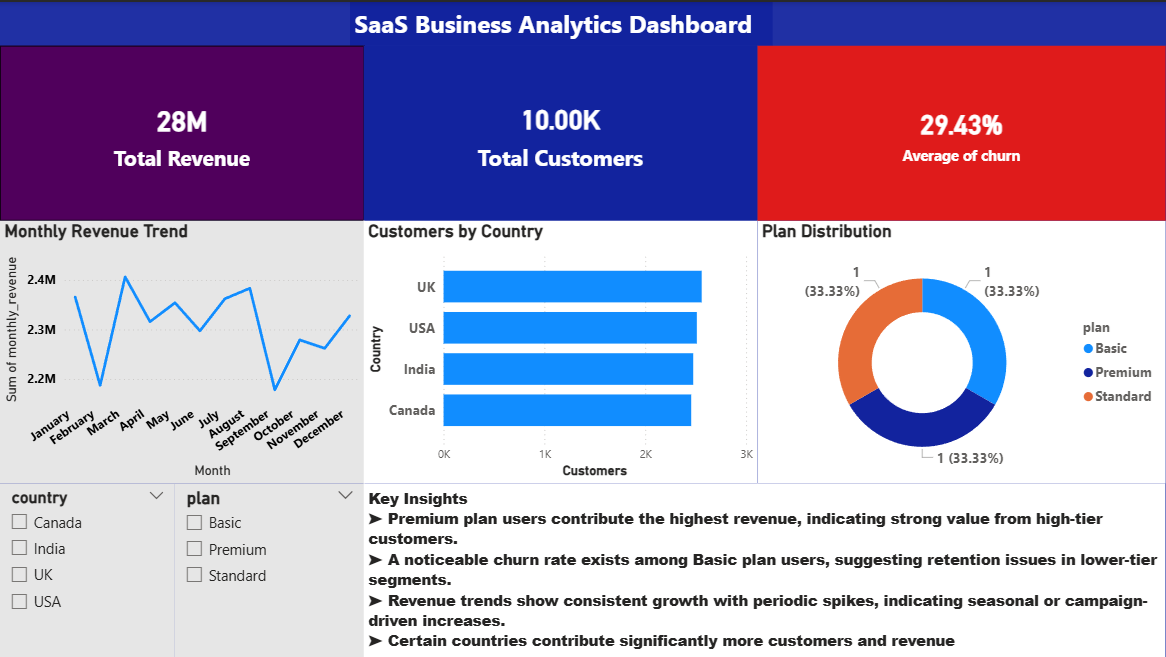

The page's visual inventory and layout, read from the dashboard file:
{"tool":"powerbi","page":{"name":"Page 1","canvas":[1280,720],"ordinal":0},"visuals":[{"type":"textbox","box":[384,0,464,48],"z":0},{"type":"card","fields":{"Values":["Sum(revenue.monthly_revenue)"]},"box":[0,48,400,192],"z":1000},{"type":"card","fields":{"Values":["CountNonNull(customers.customer_id)"]},"box":[400,48,432,192],"z":2000},{"type":"lineChart","title":"Monthly Revenue Trend","fields":{"Category":["customers.signup_date.Variation.Date Hierarchy.Month"],"Y":["Sum(revenue.monthly_revenue)"]},"box":[0,240,400,288],"z":4000},{"type":"clusteredBarChart","fields":{"Y":["CountNonNull(customers.customer_id)"],"Category":["customers.country"]},"box":[400,240,432,288],"z":5000},{"type":"donutChart","title":"Plan Distribution","fields":{"Y":["Count(customers.plan)"],"Series":["customers.plan"]},"box":[832,240,448,288],"z":6000},{"type":"slicer","fields":{"Values":["customers.country"]},"box":[0,528,192,192],"z":7000},{"type":"slicer","fields":{"Values":["customers.plan"]},"box":[192,528,208,192],"z":8000},{"type":"textbox","box":[400,528,880,192],"z":8001},{"type":"card","fields":{"Values":["Avg(usage.churn)"]},"box":[832,48,448,192],"z":8002}]}

Visuals, with their boxes in screenshot pixels (x1, y1, x2, y2), scaled from the page's 1280x720 canvas onto the 1166x657 screenshot:
textbox: region(350, 0, 772, 44)
card - Sum(revenue.monthly_revenue): region(0, 44, 364, 219)
card - CountNonNull(customers.customer_id): region(364, 44, 758, 219)
"Monthly Revenue Trend" lineChart: region(0, 219, 364, 482)
clusteredBarChart - CountNonNull(customers.customer_id) x customers.country: region(364, 219, 758, 482)
"Plan Distribution" donutChart: region(758, 219, 1165, 482)
slicer - customers.country: region(0, 482, 175, 656)
slicer - customers.plan: region(175, 482, 364, 656)
textbox: region(364, 482, 1165, 656)
card - Avg(usage.churn): region(758, 44, 1165, 219)
